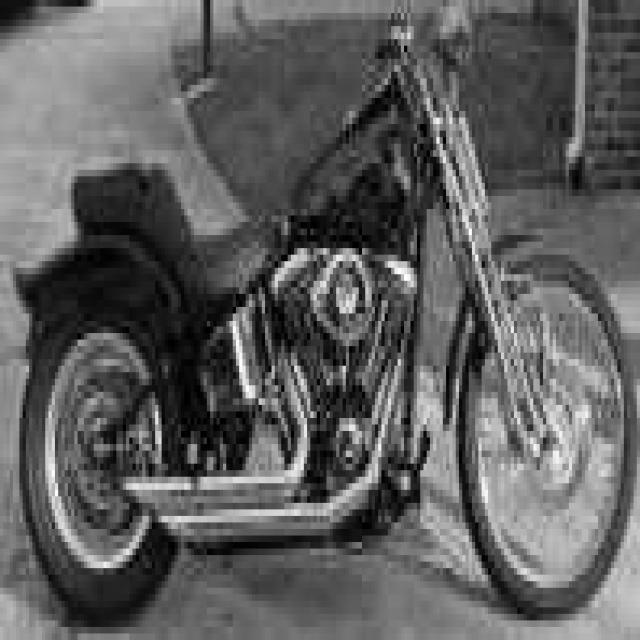Motorcycle: (17, 35, 634, 615)
